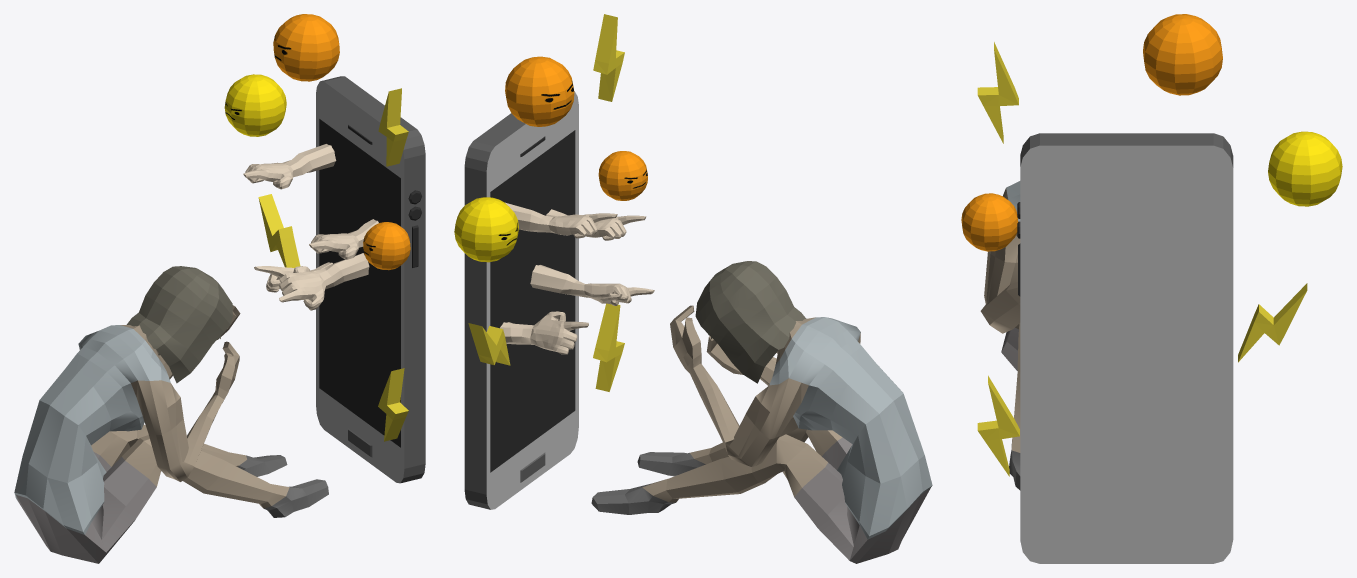
File: CyberBullying 04.fbx
3 renders of one model, left to right at view 1: azimuth 30°, elevation 25°; view 2: azimuth 150°, elevation 25°; view 3: azimuth 270°, elevation 25°, orthographic. The views are drawn at different scales.
Visible parts, largest first — view 1: polySurface114; view 2: polySurface114; view 3: polySurface114.
Part boxes in pixels (box(x1,y1,x2,y2)): polySurface114: box(14, 14, 425, 563); polySurface114: box(454, 14, 932, 563); polySurface114: box(961, 14, 1342, 563).
Size of the model in its own units: 10.51 by 11.5 by 7.69.
Materials: 13 (1 with a texture image).
